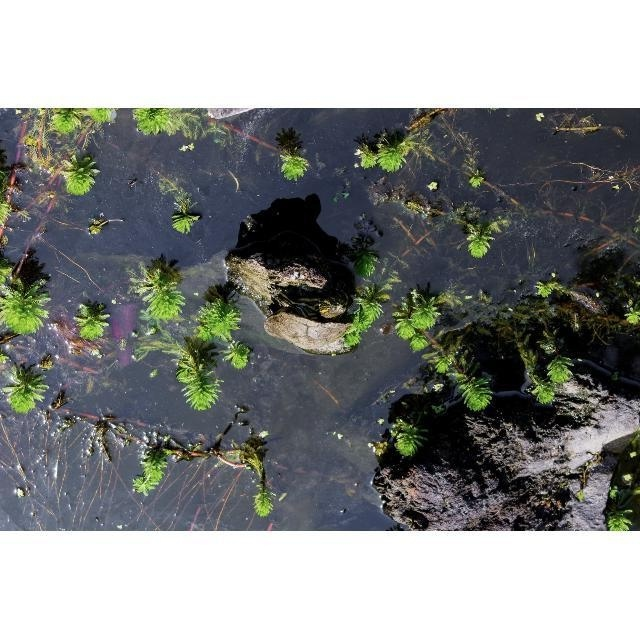turtle: (265, 292, 358, 354)
